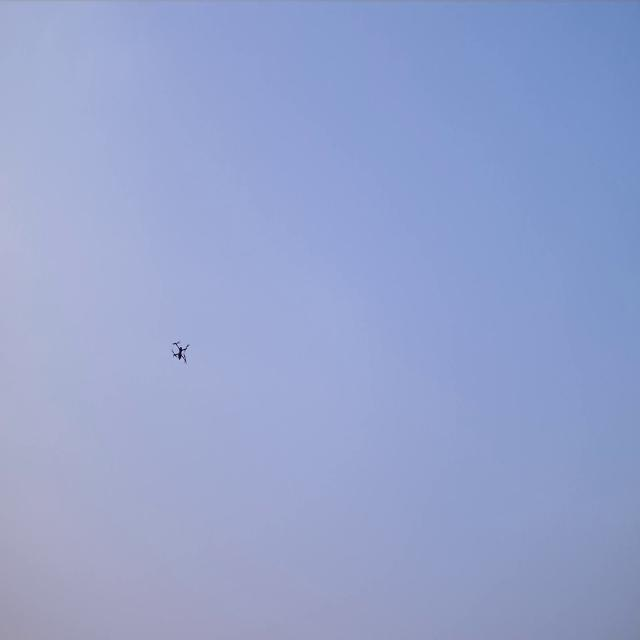UAV: (174, 342, 188, 362)
